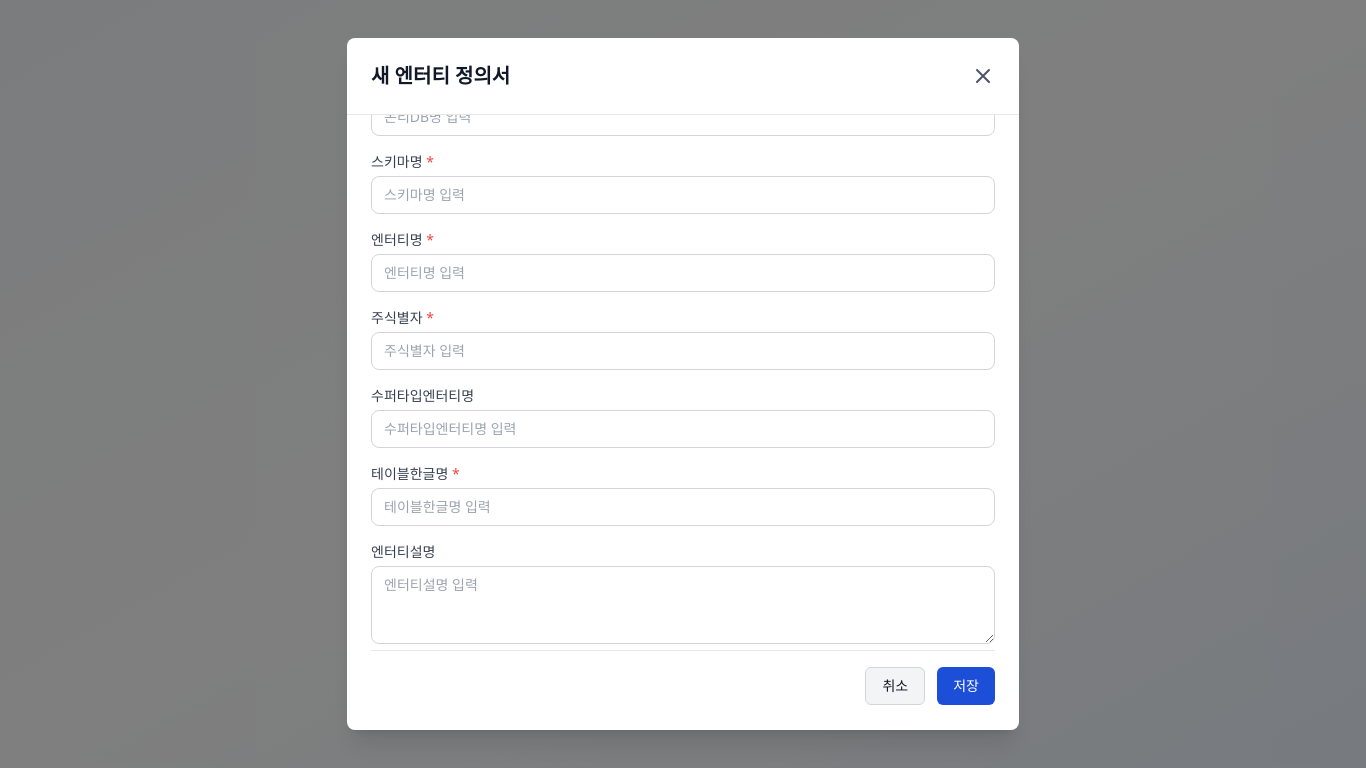
EntityEditor › Form Validation › should show error message when form is submitted with empty required fields
(page scrolled)
Click the button "저장".
click(966, 686)  # box top-left (937, 667), bottom-right (995, 705)
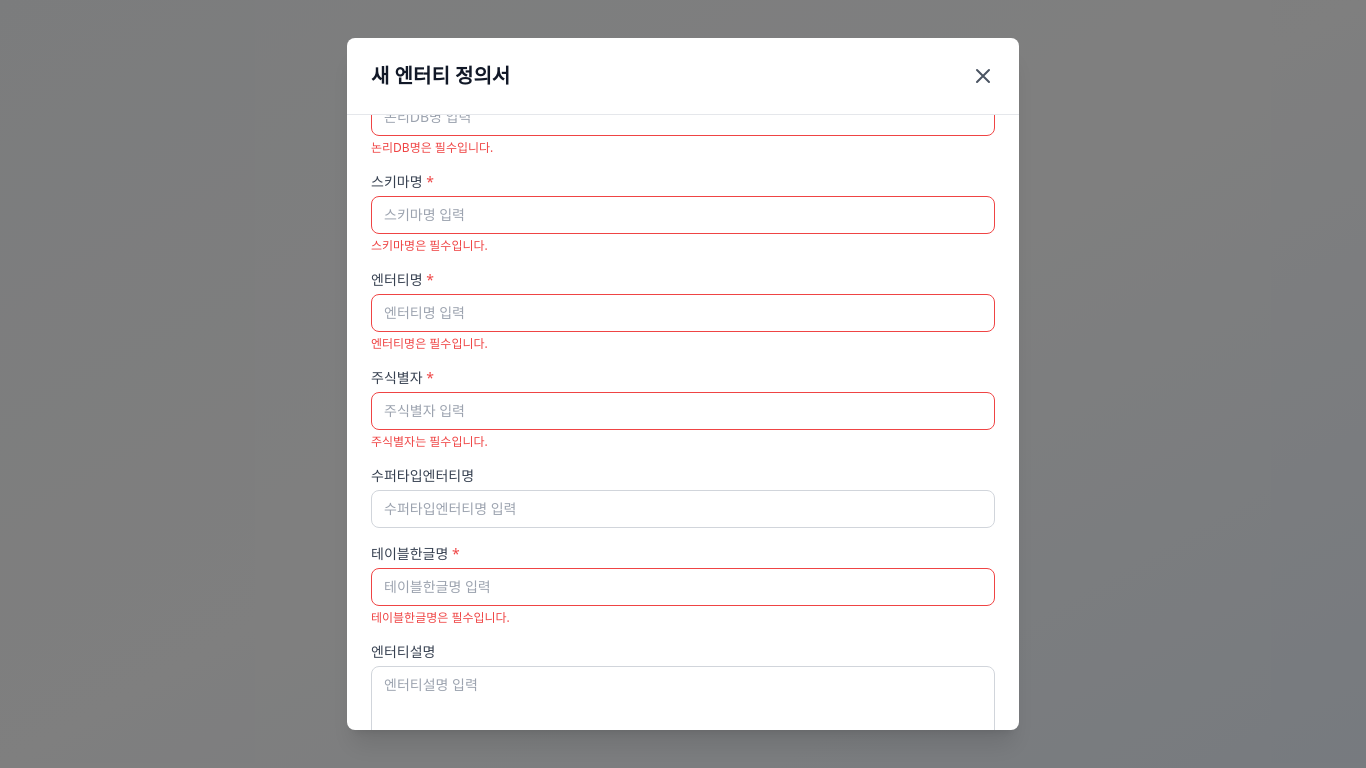
Check: the text "논리DB명은 필수입니다." is shown, box top-left (371, 139), bottom-right (493, 156)
